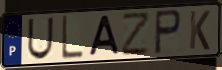A: (87, 14, 122, 58)
K: (188, 9, 212, 51)
L: (60, 14, 85, 61)
P: (153, 8, 183, 57)
U: (26, 16, 55, 61)
Z: (121, 10, 152, 58)
